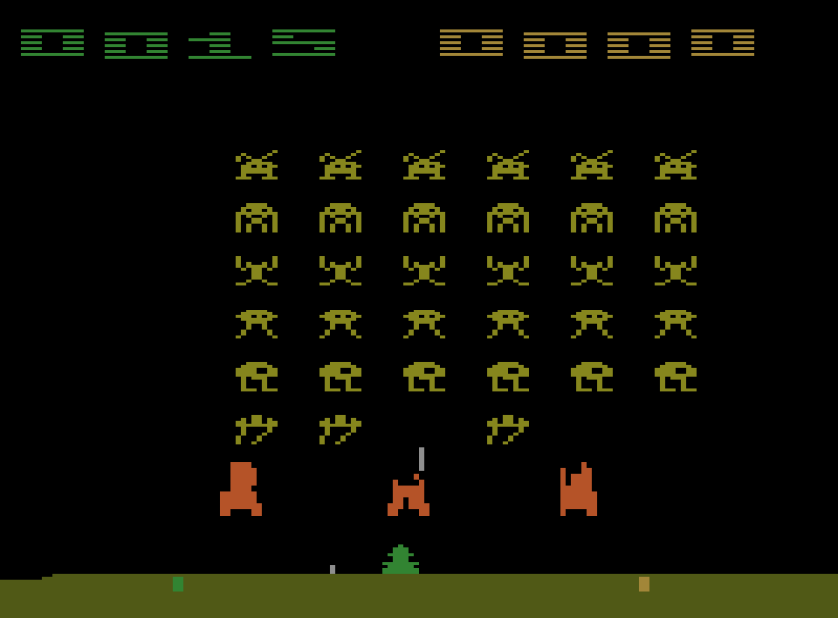bullet: (417, 445, 426, 473), (329, 563, 337, 575)
invader1: (569, 147, 616, 182), (318, 147, 364, 182), (235, 148, 280, 183), (653, 148, 698, 183), (485, 148, 531, 182), (401, 148, 448, 181)
invader2: (317, 200, 364, 235), (401, 200, 447, 234), (569, 200, 615, 234), (234, 200, 279, 234), (485, 200, 530, 234), (653, 201, 699, 234)
invader3: (402, 253, 448, 289), (485, 253, 530, 288), (317, 254, 363, 288), (569, 253, 615, 287), (235, 253, 280, 287), (653, 253, 698, 287)
invader4: (484, 307, 531, 342), (402, 307, 448, 341), (569, 307, 615, 341), (652, 307, 699, 340), (319, 307, 363, 342), (234, 308, 279, 342)
invader5: (484, 359, 532, 395), (234, 358, 279, 394), (401, 360, 448, 393), (652, 360, 698, 393), (568, 361, 614, 393), (318, 361, 363, 393)
invader6: (316, 411, 363, 446), (484, 412, 531, 447), (234, 412, 279, 447)
player: (380, 540, 420, 576)
